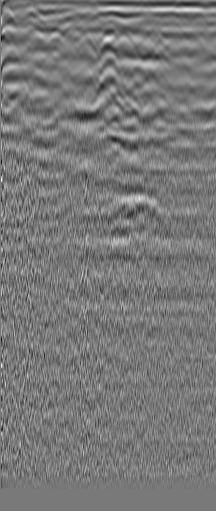오수: (21, 9, 41, 29)
우수: (161, 14, 181, 34)
